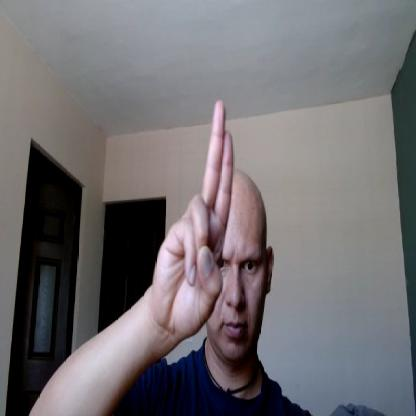U: (152, 98, 233, 340)
